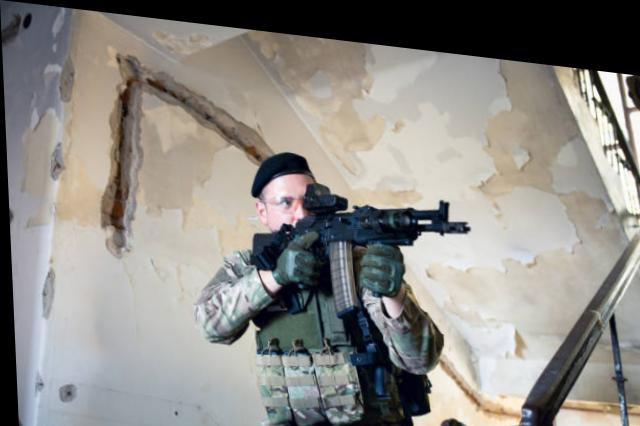other: (189, 137, 438, 424)
